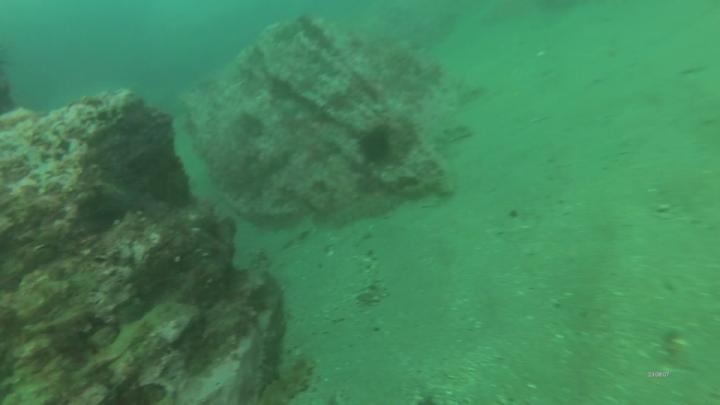echinus: (352, 121, 398, 174)
holothurian: (263, 350, 318, 405)
